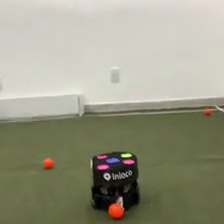ball: (106, 201, 126, 220), (41, 155, 56, 170), (202, 106, 212, 116)
goal: (1, 92, 86, 121)
robot: (87, 149, 142, 211)
